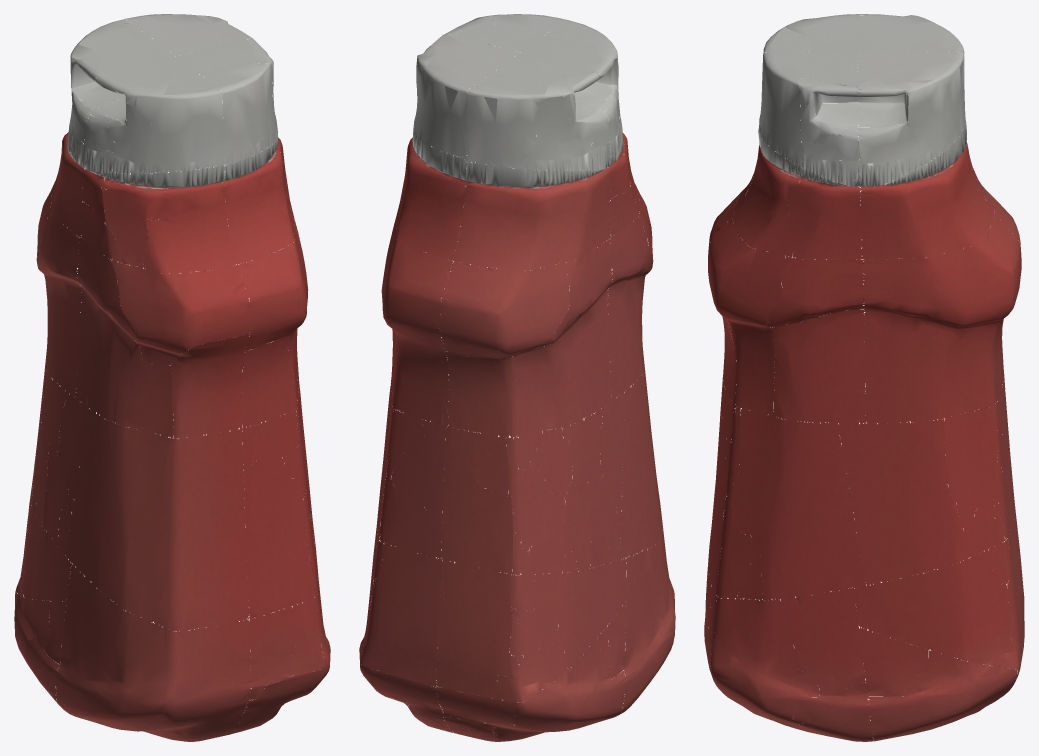
File: ketchup.glb
The picture shows the model from 3 angles, left to right: view 1: azimuth 30°, elevation 25°; view 2: azimuth 150°, elevation 25°; view 3: azimuth 270°, elevation 25°; orthographic projection.
Parts seen in each view (by area): view 1: tripo_node_403f5b09-ba83-4926-8579-cb89e899821e; view 2: tripo_node_403f5b09-ba83-4926-8579-cb89e899821e; view 3: tripo_node_403f5b09-ba83-4926-8579-cb89e899821e.
Part boxes in pixels (<box>): tripo_node_403f5b09-ba83-4926-8579-cb89e899821e: <box>14,14,330,741</box>; tripo_node_403f5b09-ba83-4926-8579-cb89e899821e: <box>359,14,675,741</box>; tripo_node_403f5b09-ba83-4926-8579-cb89e899821e: <box>704,14,1024,741</box>.
Size of the model in its own units: 0.3587 by 0.9802 by 0.438.
1 material, 1 textured.
